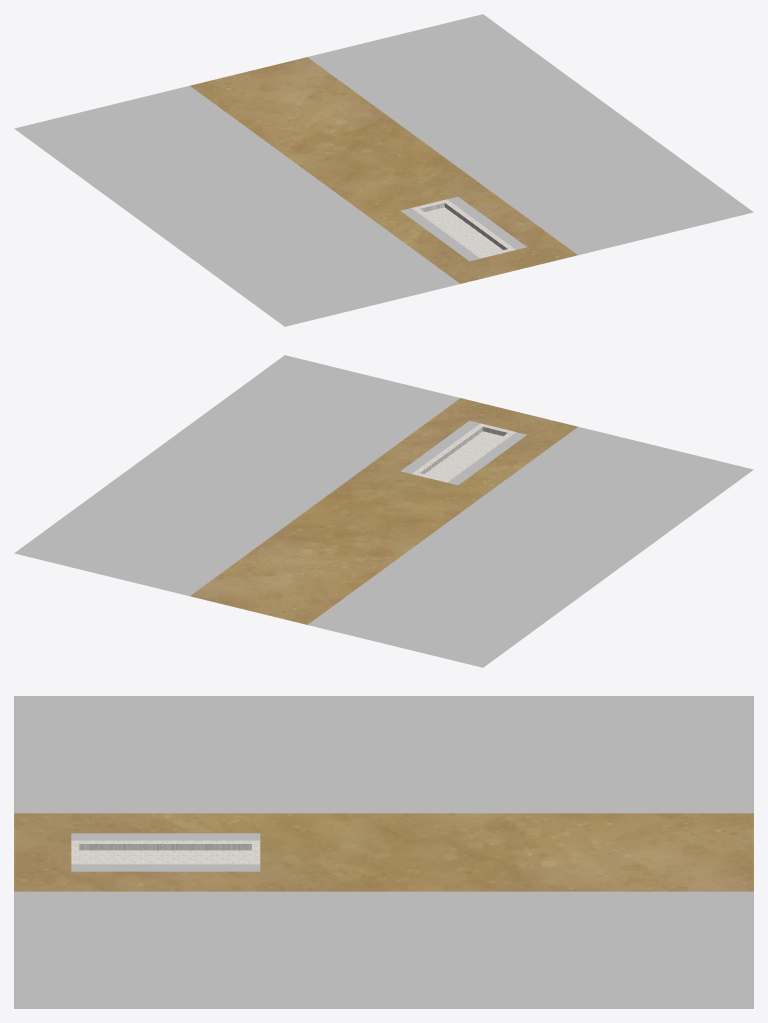
Rendered from Lvl4 Terrain.fbx.
The picture shows the model from 3 angles, top to bottom: view 1: azimuth 30°, elevation 25°; view 2: azimuth 150°, elevation 25°; view 3: azimuth 270°, elevation 25°; orthographic projection. The views are drawn at different scales.
Parts seen in each view (by area): view 1: Plane.004; view 2: Plane.004; view 3: Plane.004.
Boxes of the visible parts, bbox=[...] form: Plane.004: bbox=[14, 14, 753, 326]; Plane.004: bbox=[14, 355, 753, 667]; Plane.004: bbox=[14, 696, 753, 1008].
Size of the model in its own units: 15000 by 136 by 15000.
